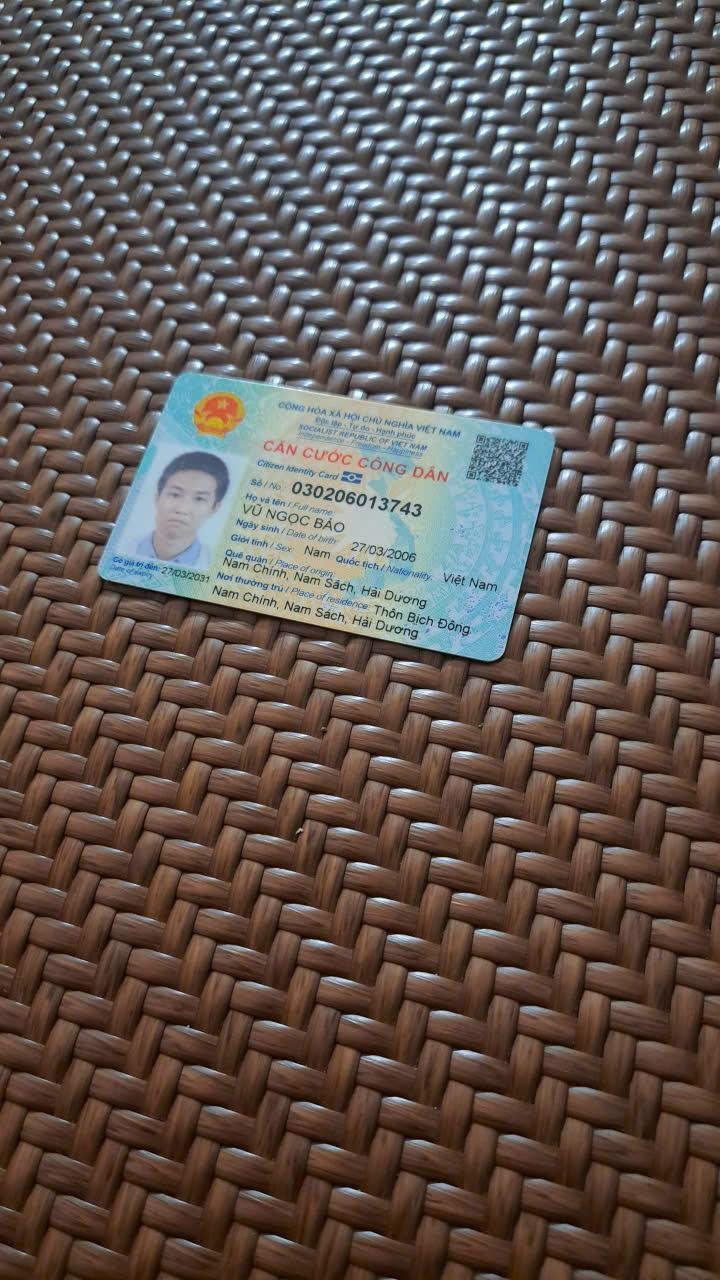cccd: (92, 363, 566, 676)
